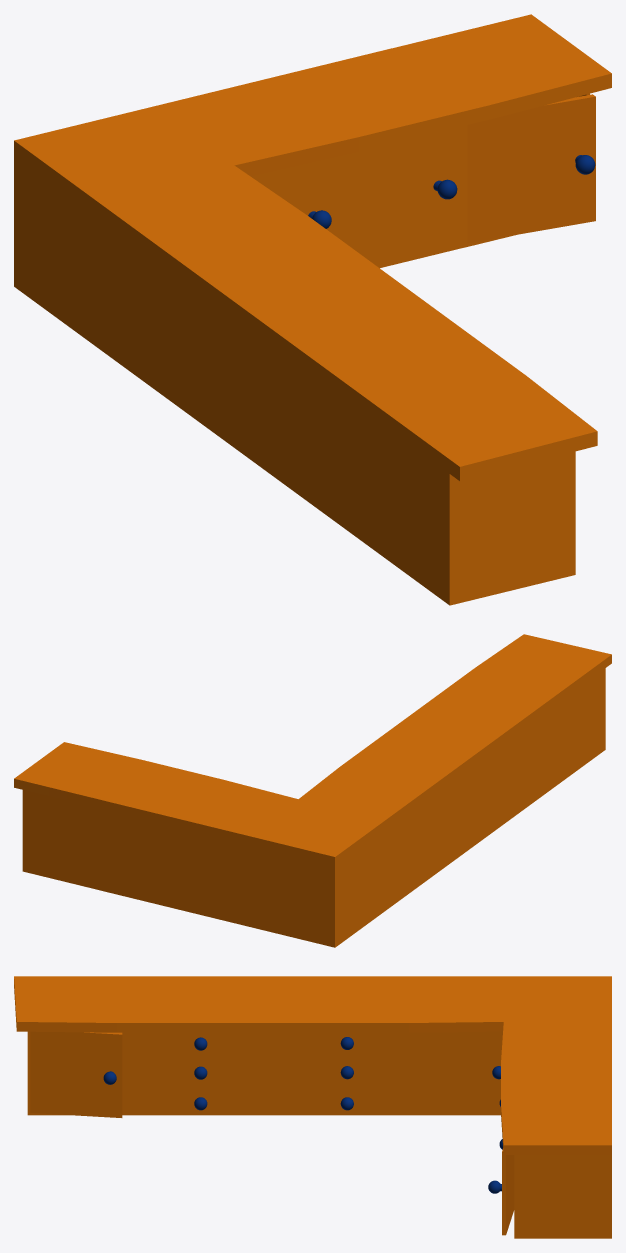
File: vb_cabinet.fbx
3 renders of one model, top to bottom at view 1: azimuth 30°, elevation 25°; view 2: azimuth 150°, elevation 25°; view 3: azimuth 270°, elevation 25°, orthographic. The views are drawn at different scales.
Visible parts, largest first — view 1: Cabinets; view 2: Cabinets; view 3: Cabinets.
Part boxes in pixels (bbox=[...]): Cabinets: bbox=[14, 14, 611, 605]; Cabinets: bbox=[14, 634, 611, 947]; Cabinets: bbox=[14, 976, 611, 1238].
Bounding box in the file's own units: 4.11 × 1.11 × 6.14.
